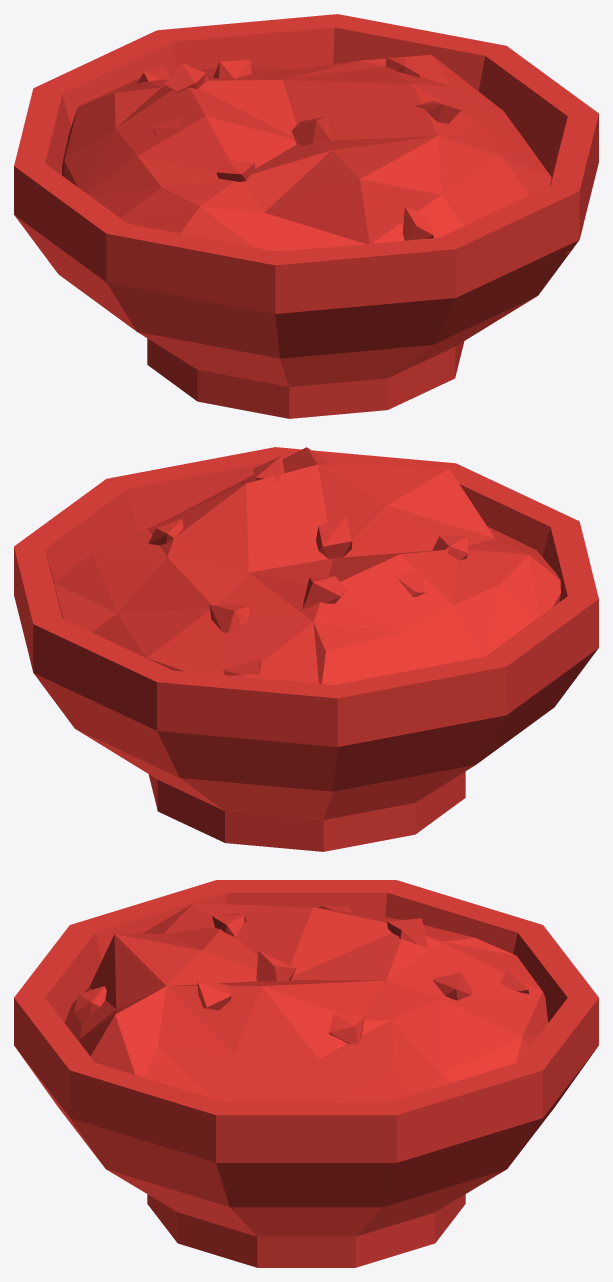
Rendered from SM_Cranberry_Sauce.fbx.
The picture shows the model from 3 angles, top to bottom: view 1: azimuth 30°, elevation 25°; view 2: azimuth 150°, elevation 25°; view 3: azimuth 270°, elevation 25°; orthographic projection. The views are drawn at different scales.
Parts seen in each view (by area): view 1: cranberry-sauce; view 2: cranberry-sauce; view 3: cranberry-sauce.
Boxes of the visible parts, left/top/right/bottom form: cranberry-sauce: left=14, top=14, right=598, bottom=418; cranberry-sauce: left=14, top=447, right=598, bottom=851; cranberry-sauce: left=14, top=880, right=598, bottom=1267.
Bounding box in the file's own units: 0.1497 × 0.0777 × 0.1574.
